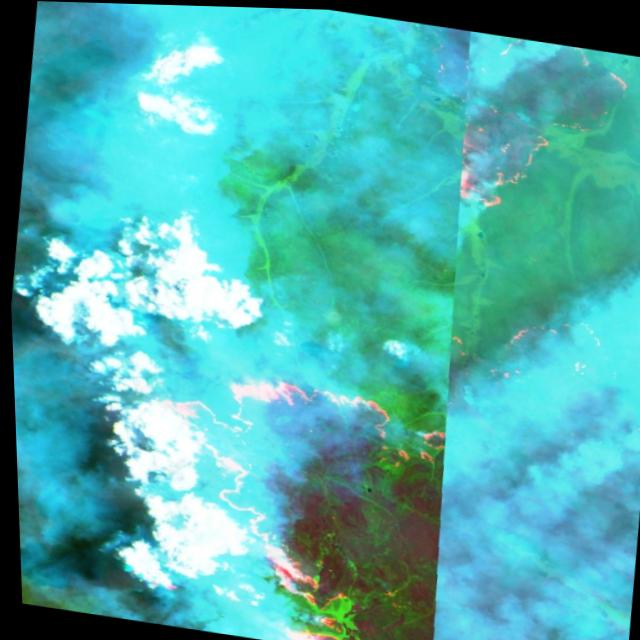fire: (108, 345, 479, 640), (439, 25, 636, 232)
